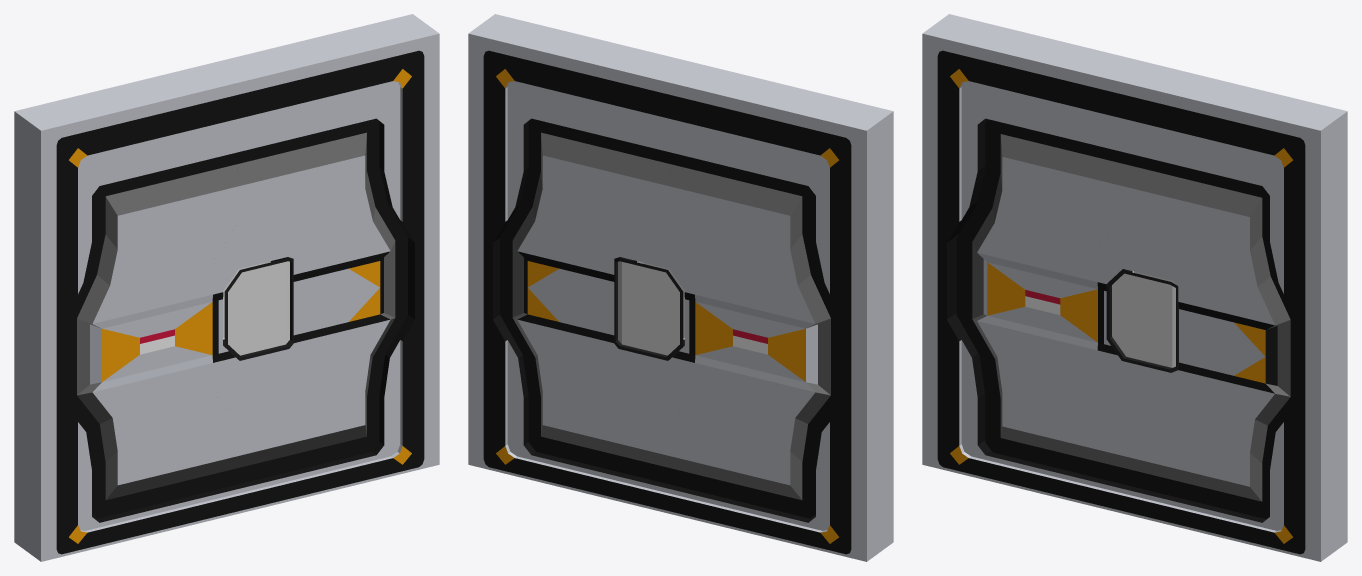
File: LabDoor.fbx
3 views of the same model, side by side, from view 1: azimuth 30°, elevation 25°; view 2: azimuth 150°, elevation 25°; view 3: azimuth 330°, elevation 25° (orthographic).
Parts seen in each view (by area): view 1: R, Cube.002, L; view 2: R, Cube.002, L; view 3: R, Cube.002, L.
Part boxes in pixels (left/top/right/bottom): R: left=14, top=14, right=439, bottom=561; Cube.002: left=212, top=118, right=407, bottom=484; L: left=65, top=153, right=241, bottom=518; R: left=468, top=14, right=893, bottom=561; Cube.002: left=500, top=118, right=695, bottom=484; L: left=666, top=153, right=842, bottom=518; R: left=922, top=14, right=1347, bottom=561; Cube.002: left=1097, top=154, right=1296, bottom=519; L: left=956, top=119, right=1131, bottom=486.
Bounding box in the file's own units: 1396 × 1443 × 163.
